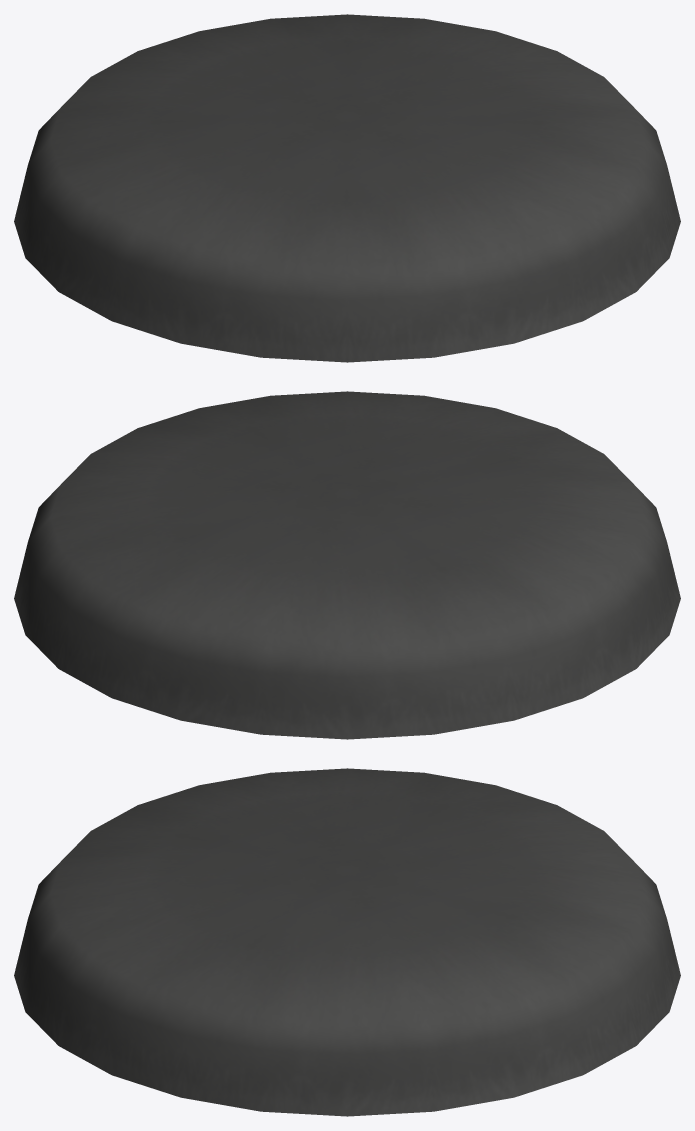
Rendered from Gemini_NoseCap.dae.
3 views of the same model, one above another, from view 1: azimuth 30°, elevation 25°; view 2: azimuth 150°, elevation 25°; view 3: azimuth 270°, elevation 25° (orthographic).
Visible parts, largest first — view 1: GeminiCap; view 2: GeminiCap; view 3: GeminiCap.
Boxes of the visible parts, <box> form: GeminiCap: <box>14,14,680,362</box>; GeminiCap: <box>14,391,680,739</box>; GeminiCap: <box>14,768,680,1116</box>.
Bounding box in the file's own units: 0.4614 × 0.0805 × 0.4614.
